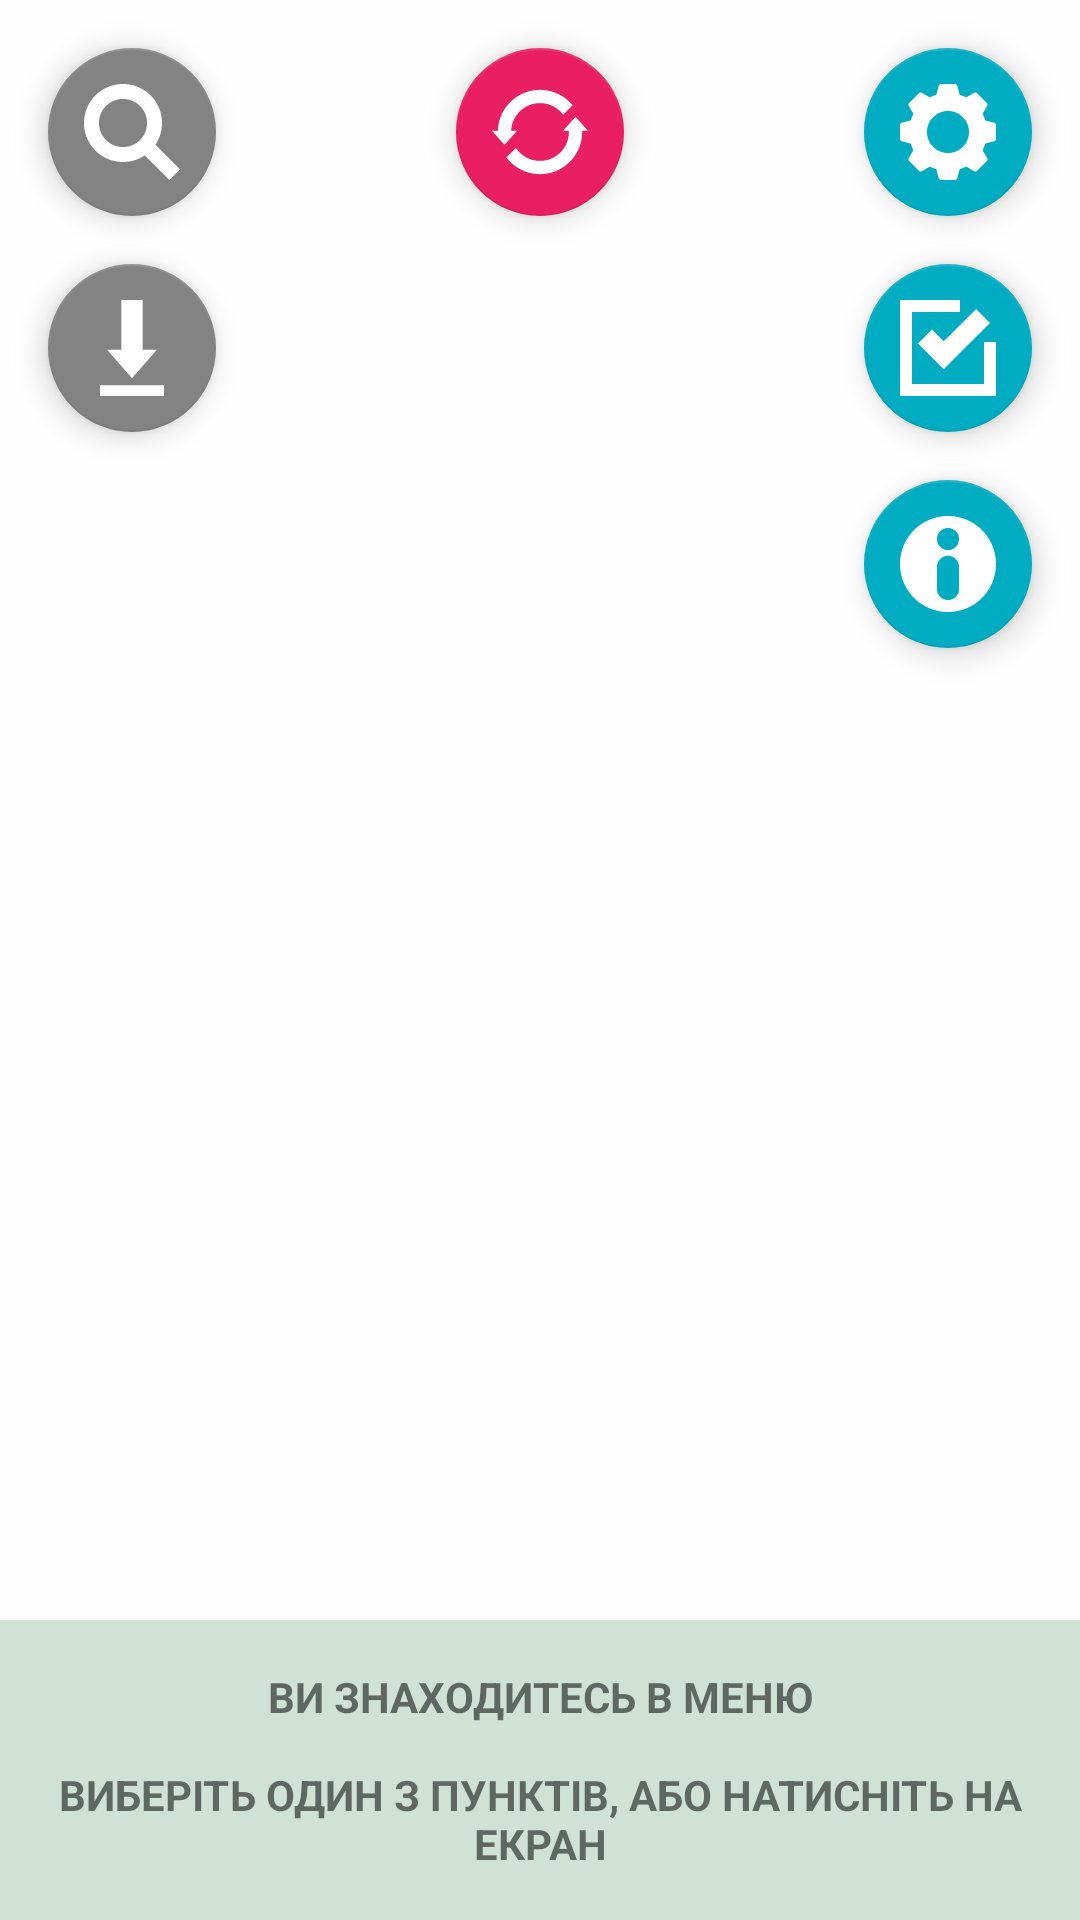

Icons on this 1080×1920 Android screen, each with the point to tap as (x,y):
info item: (948,564)
refresh item: (540,132)
settings item: (948,132)
